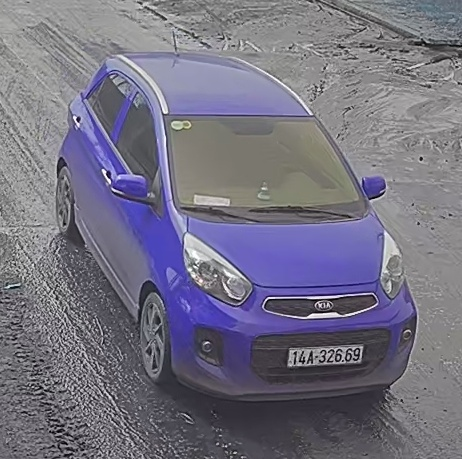vehicle plate: (286, 341, 366, 369)
